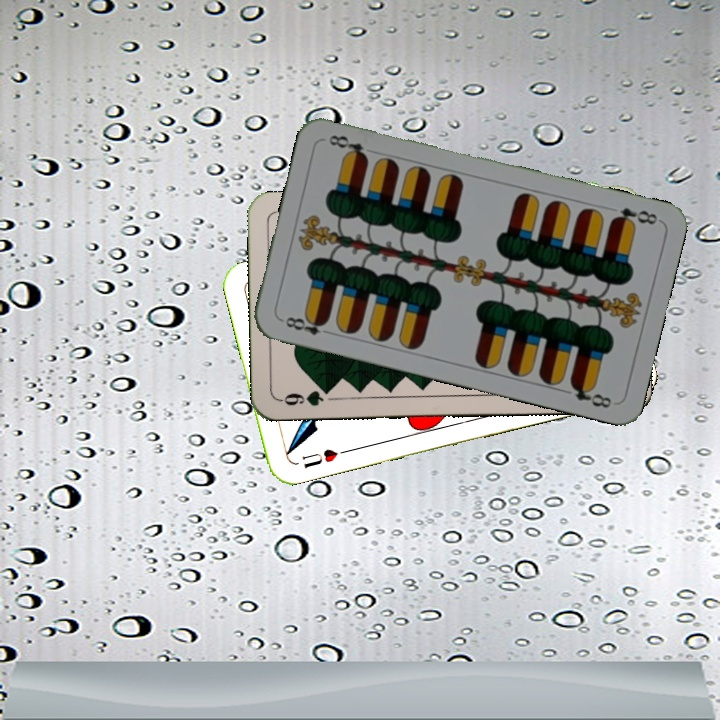E8: (277, 311, 335, 338), (607, 203, 662, 229)
G9: (276, 383, 335, 409)
HU: (298, 445, 341, 471)
